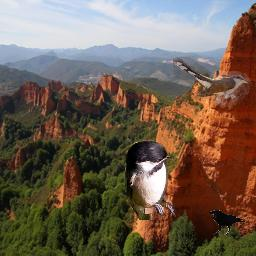Crow: (208, 210, 246, 235)
Cuckoo: (173, 57, 251, 107)
Swallow: (123, 138, 178, 220)
